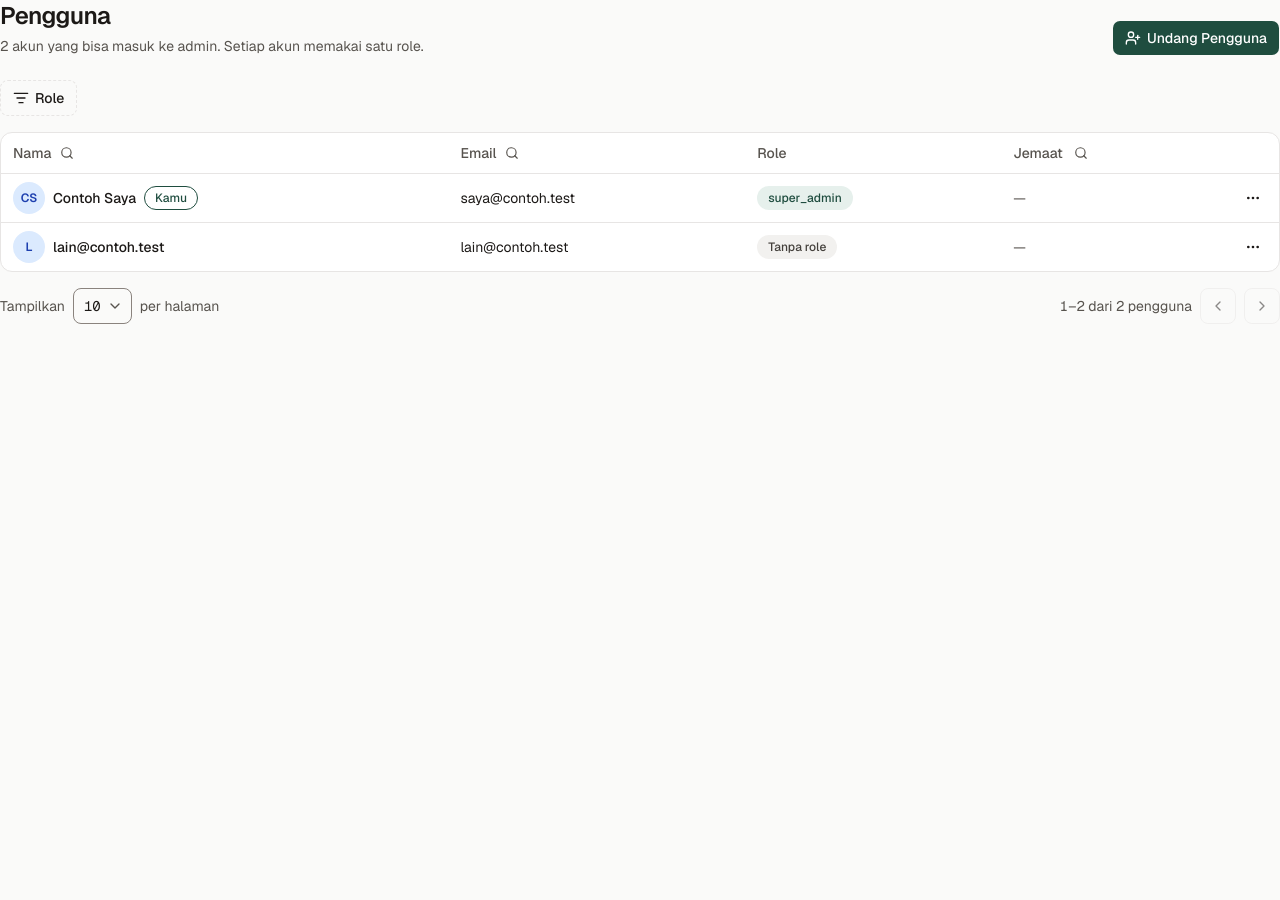
UsersManager › shows a 207 as a warning, not a success, and still closes the invite dialog
The image size is (1280, 900).
Click the button "Undang Pengguna".
click(1196, 38)  # box [1112,20,1279,56]
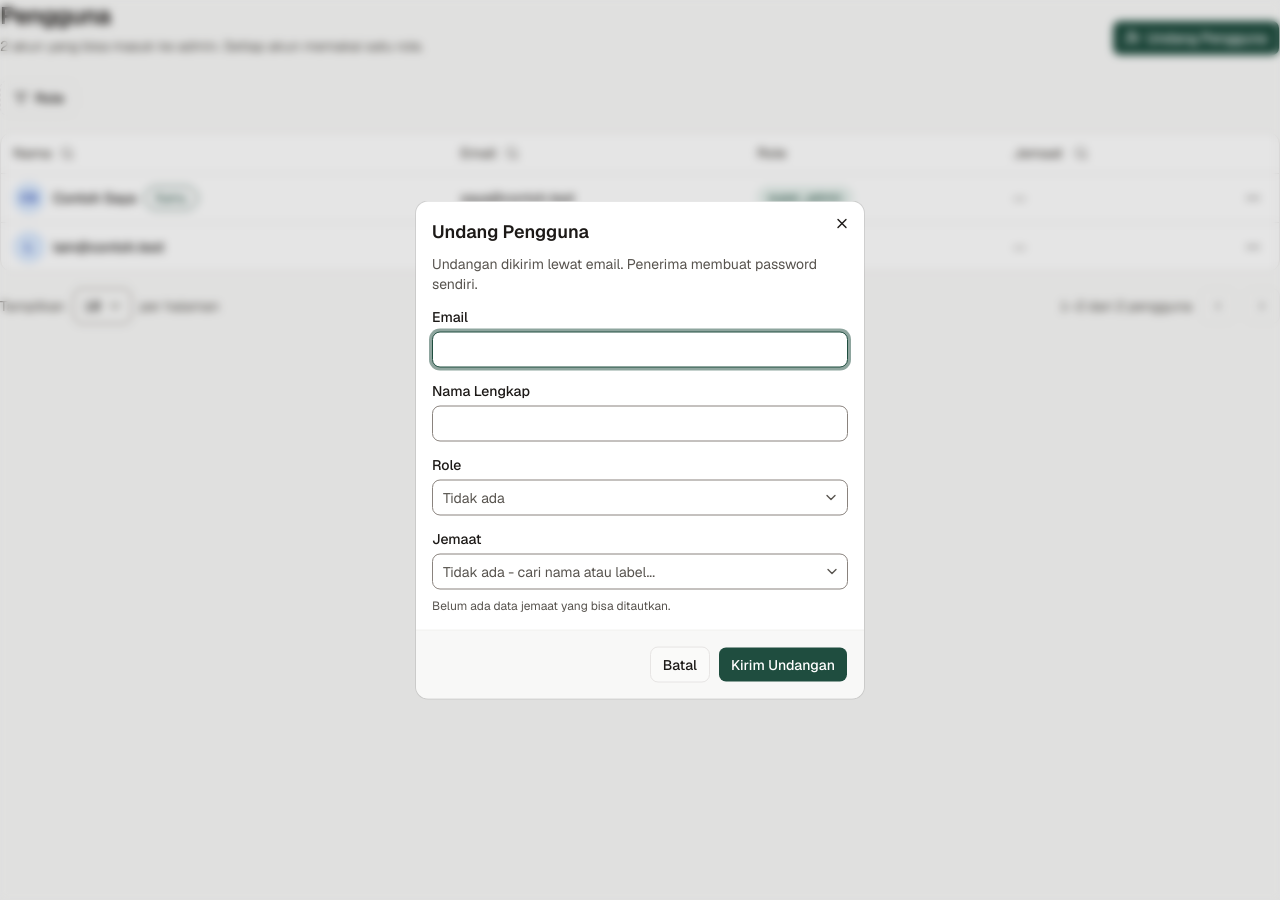
Click the button "Kirim Undangan".
click(783, 664)  # box [718,646,848,682]
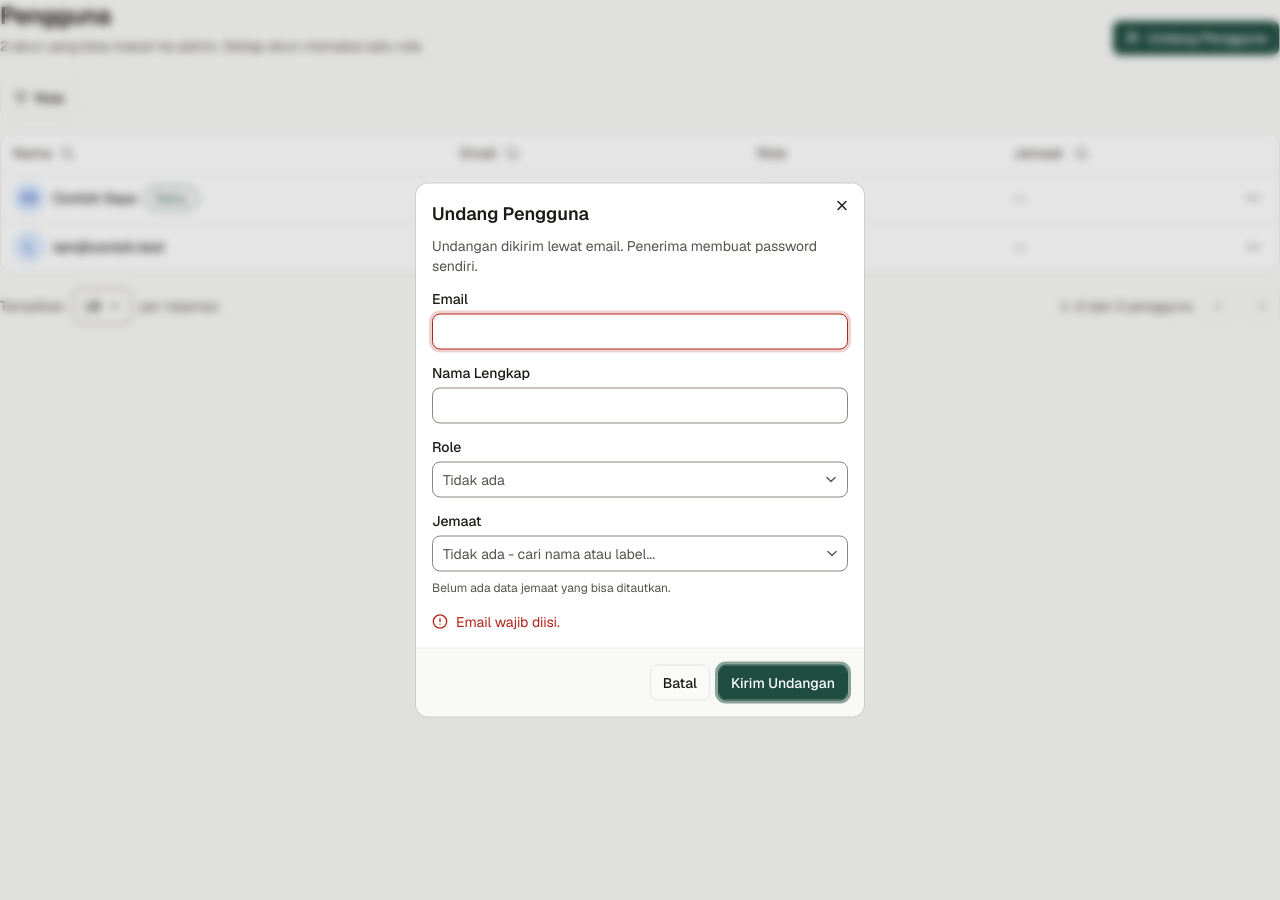
Expected: the message reads "Email wajib diisi.", [456,612,560,630]
Type "baru@contoh.test" into the field labelled "Email".
click(640, 332); type("baru@contoh.test")  # box [432,314,848,350]
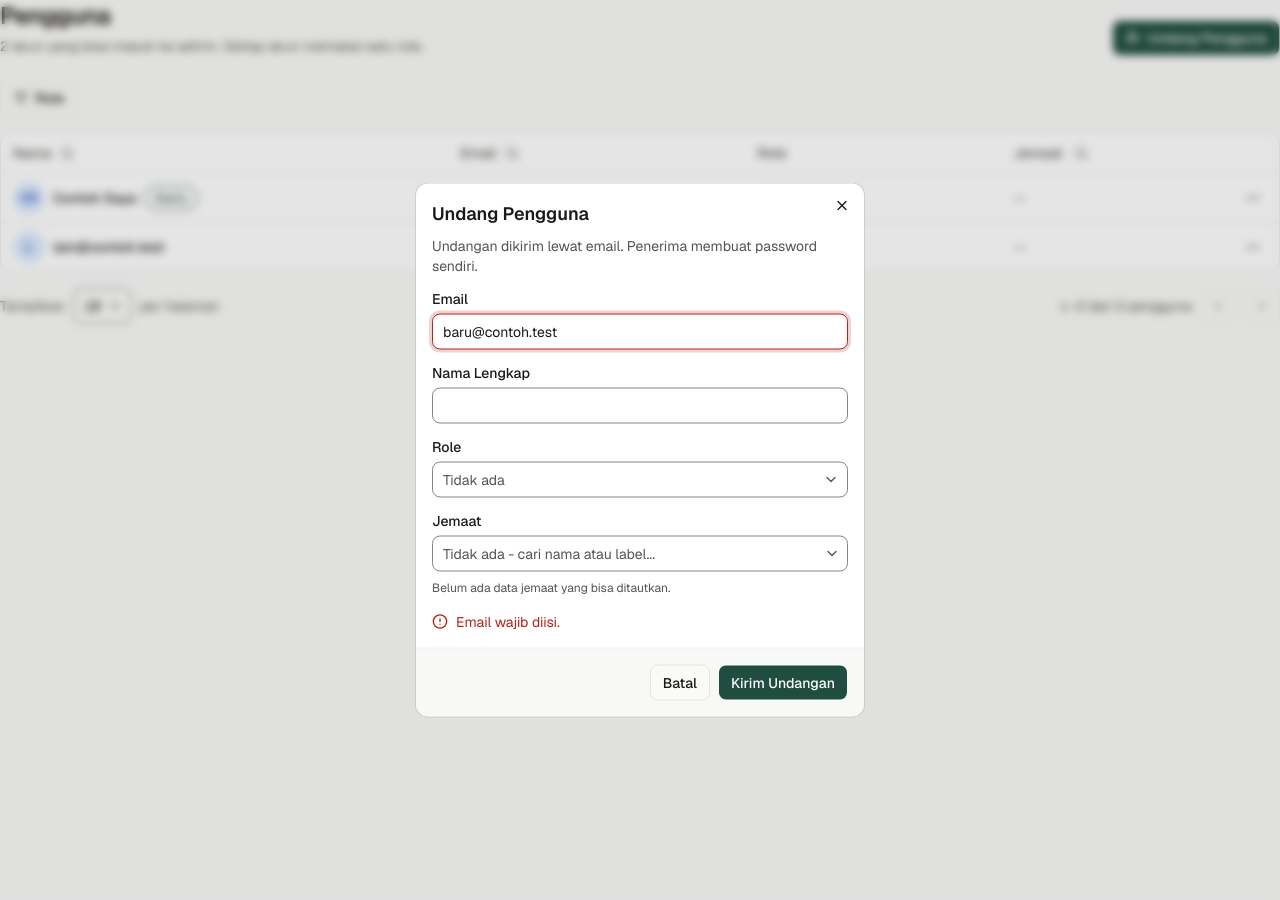
Click the button "Kirim Undangan".
click(783, 682)  # box [718,664,848,700]
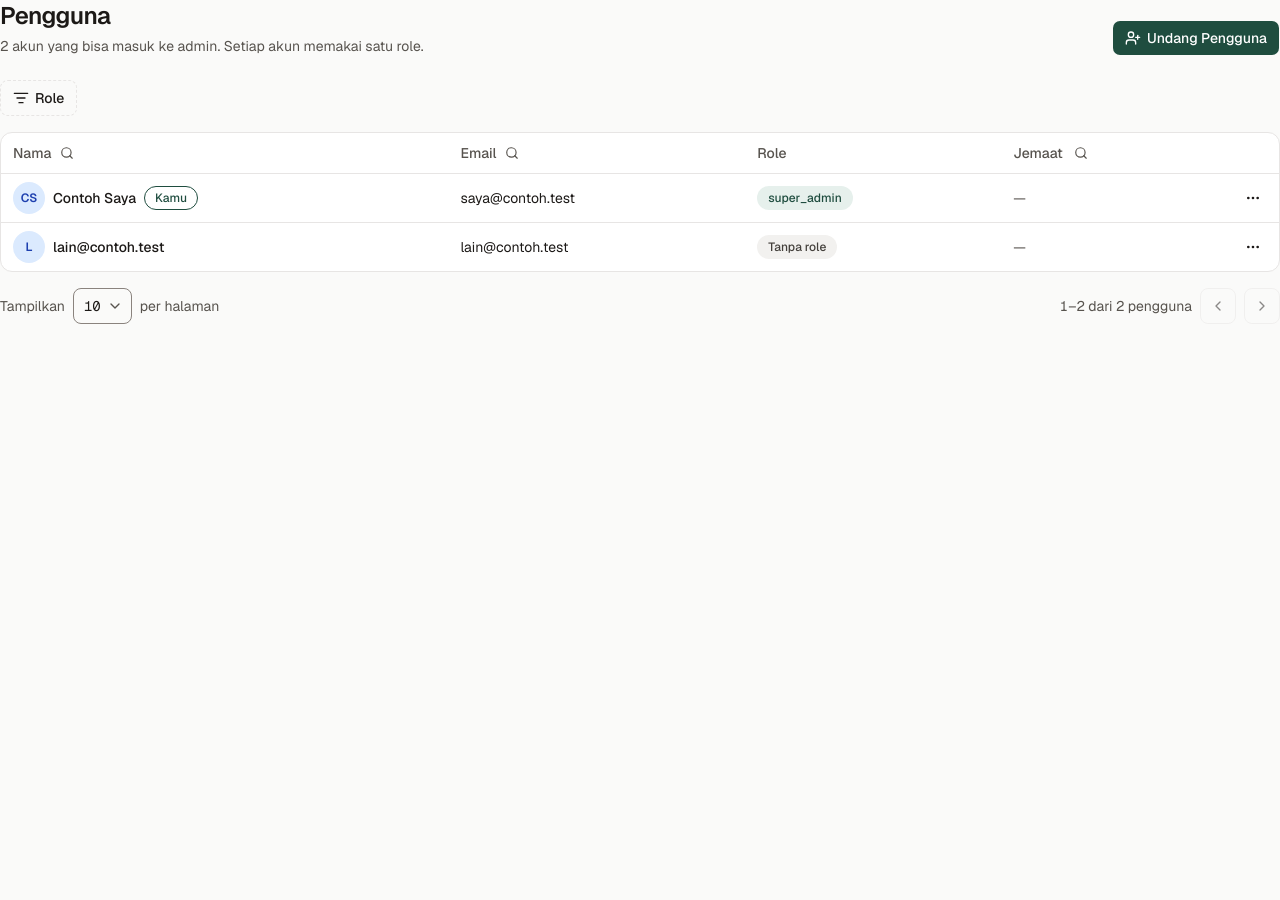
Expected: the dialog is gone
